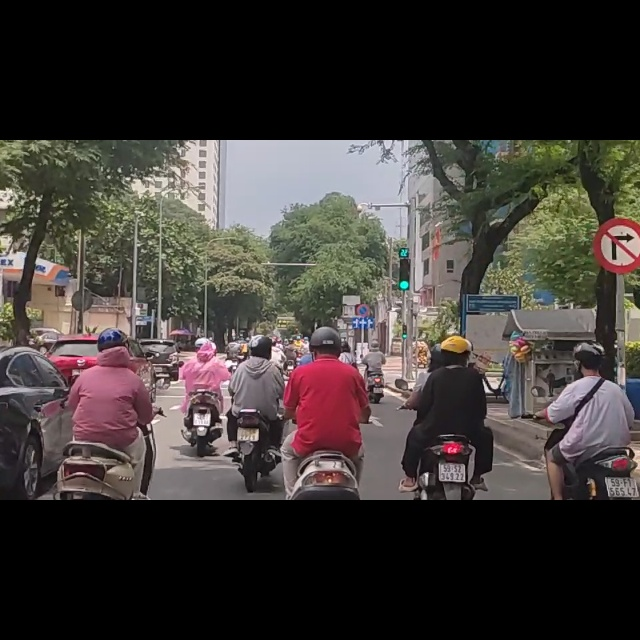bien_chi_dan: (594, 141, 640, 233), (354, 290, 370, 316)
